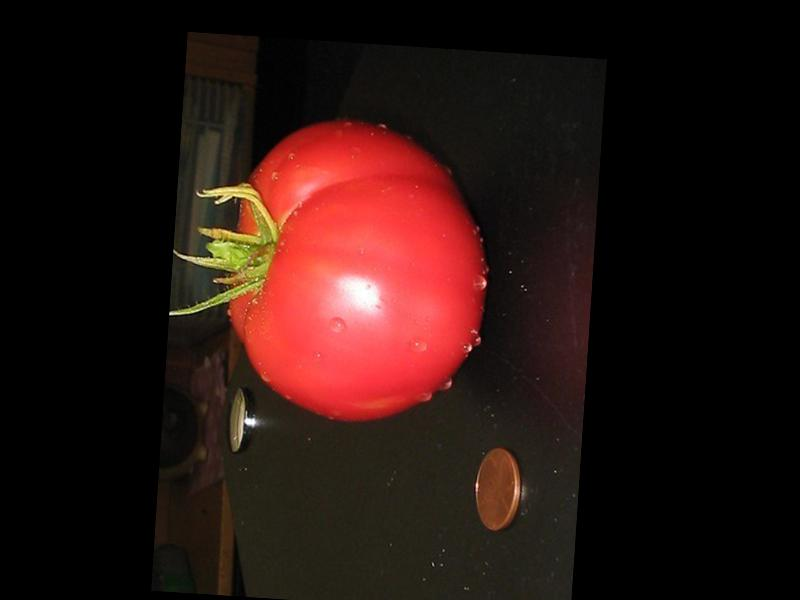Tomato: (220, 111, 497, 428)
